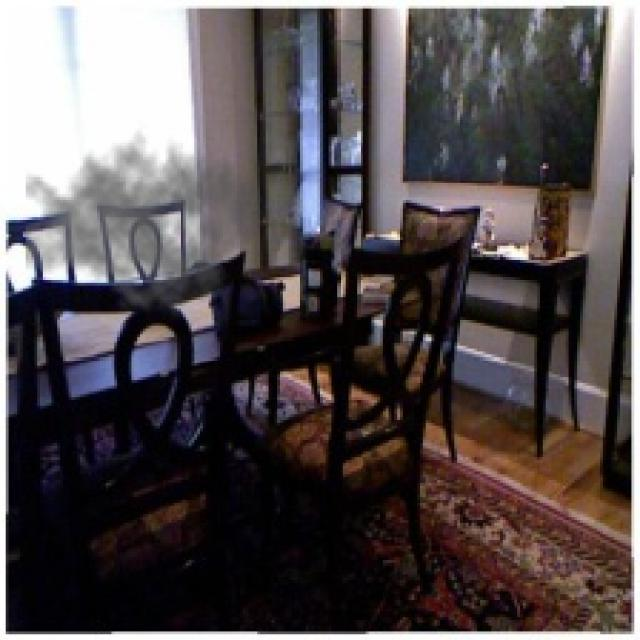Smoke: (26, 120, 263, 320)
